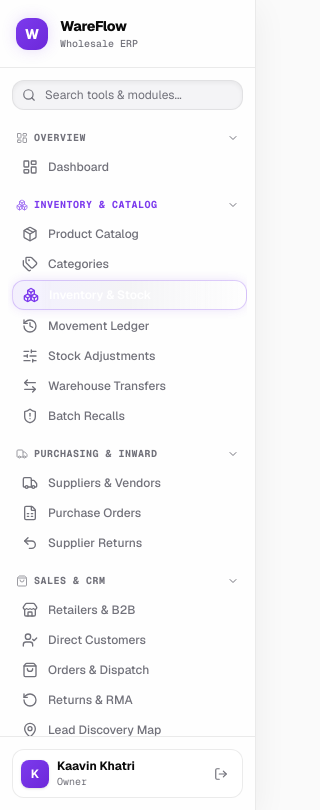
Scenario: Sidebar Navigation UI Component › should filter navigation items dynamically when typing in search input
Type "Invoices" into the field with placeholder "Search tools & modules...".
click(128, 95); type("Invoices")  # box [12,80,243,110]
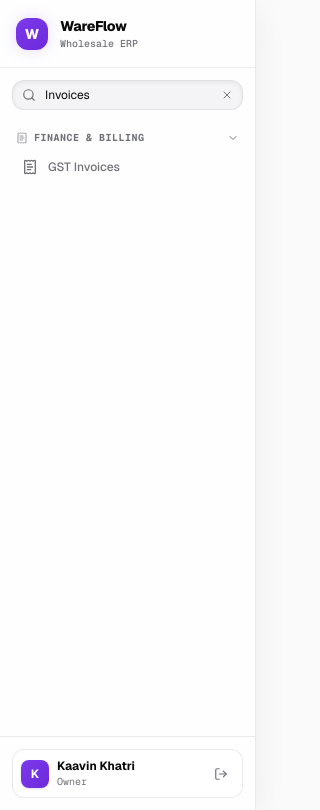
expect the text "GST Invoices" is shown: met, box [48,159,120,175]
Note: Clear search
Click the button named "Clear Search".
click(227, 95)  # box [219,87,235,103]
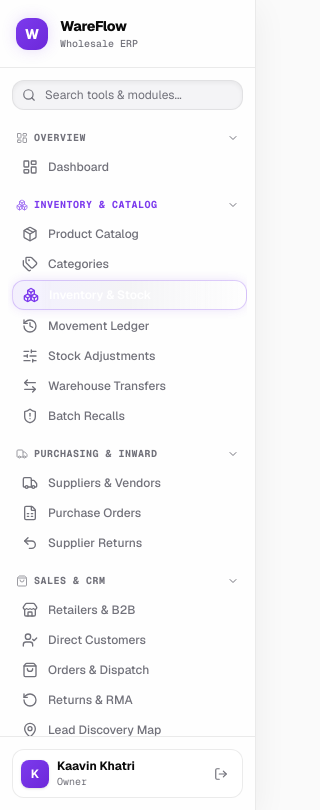
expect the field with placeholder "Search tools & modules..." is empty: met, box [12,80,243,110]
